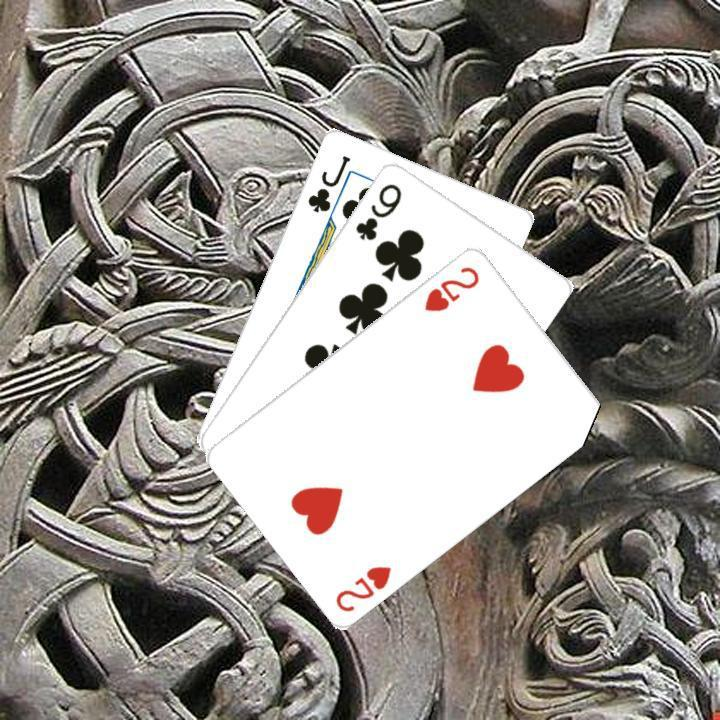2: (331, 560, 394, 614), (420, 261, 482, 314)
9: (350, 178, 404, 242)
J: (302, 150, 352, 214)
